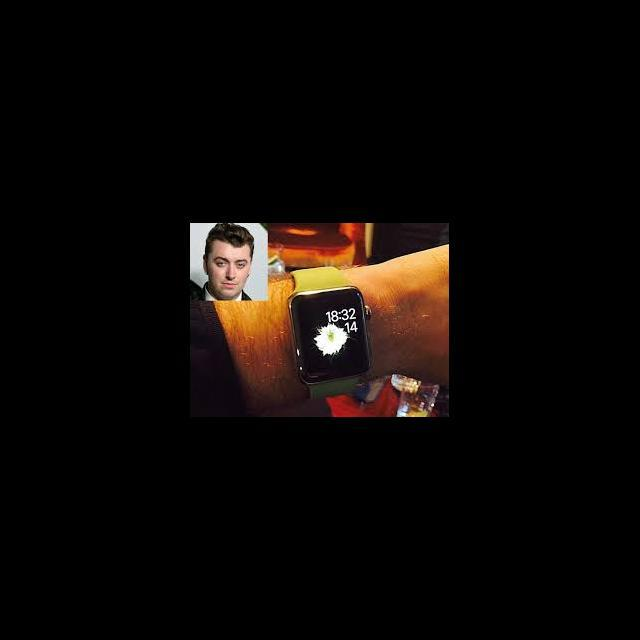watch: (277, 252, 373, 403)
